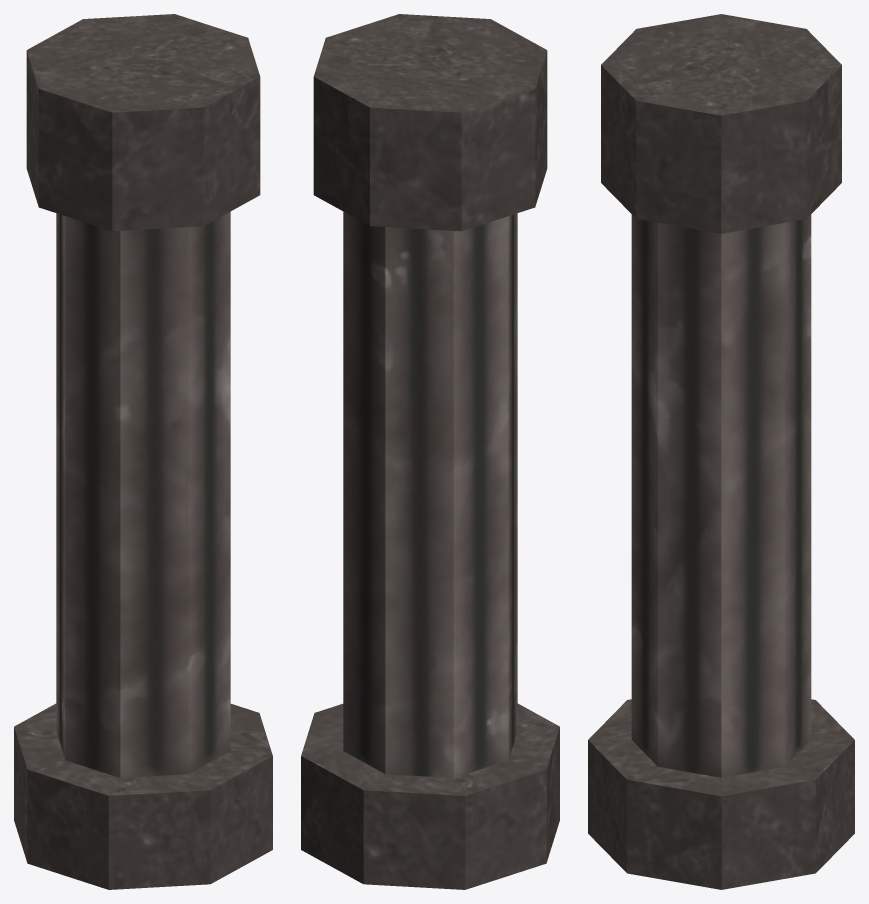
The model's file is column.fbx.
3 views of the same model, side by side, from view 1: azimuth 30°, elevation 25°; view 2: azimuth 150°, elevation 25°; view 3: azimuth 270°, elevation 25° (orthographic).
Visible parts, largest first — view 1: columnRKD:column; view 2: columnRKD:column; view 3: columnRKD:column.
Part boxes in pixels (x1,y1,x2,y2): columnRKD:column: [14, 14, 272, 889]; columnRKD:column: [301, 14, 559, 889]; columnRKD:column: [588, 14, 854, 889].
Bounding box in the file's own units: 7.94 × 25.24 × 7.94.
